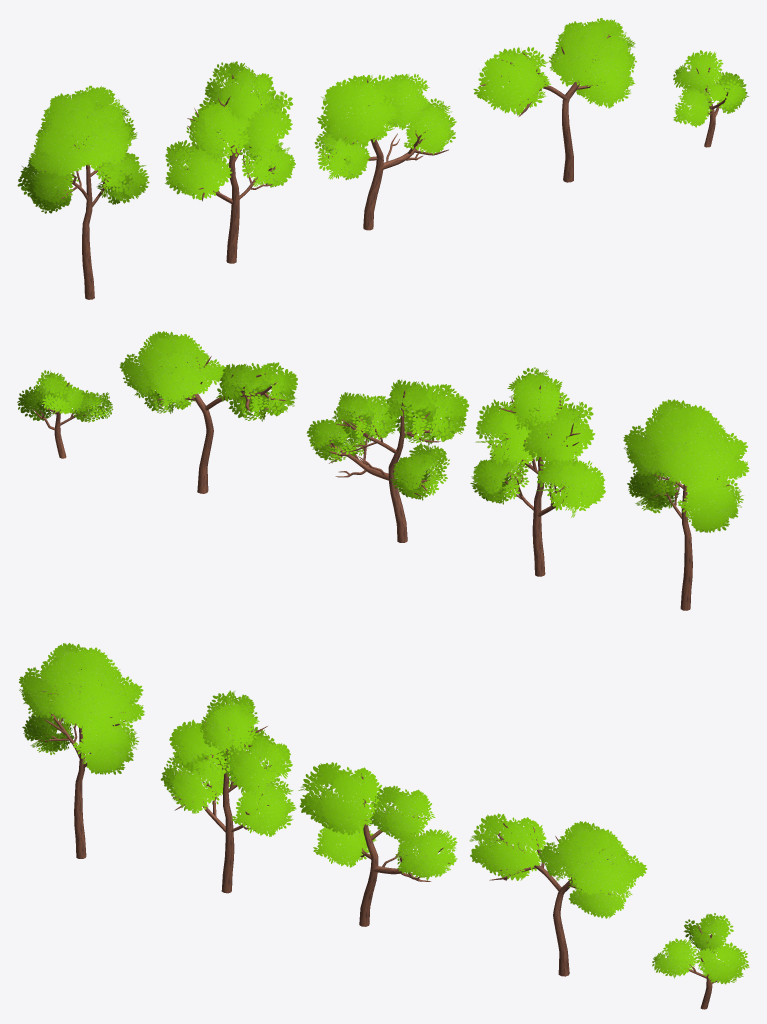
The model's file is trees.glb.
The picture shows the model from 3 angles, top to bottom: view 1: azimuth 30°, elevation 25°; view 2: azimuth 150°, elevation 25°; view 3: azimuth 330°, elevation 25°; orthographic projection.
Parts seen in each view (by area): view 1: NormalTree_1; view 2: NormalTree_1; view 3: NormalTree_1.
Part boxes in pixels (x1,y1,x2,y2): NormalTree_1: (17, 18, 749, 299); NormalTree_1: (17, 331, 749, 610); NormalTree_1: (19, 643, 749, 1009).
Size of the model in its own units: 24.93 by 6.87 by 3.
2 materials, 2 textured.
